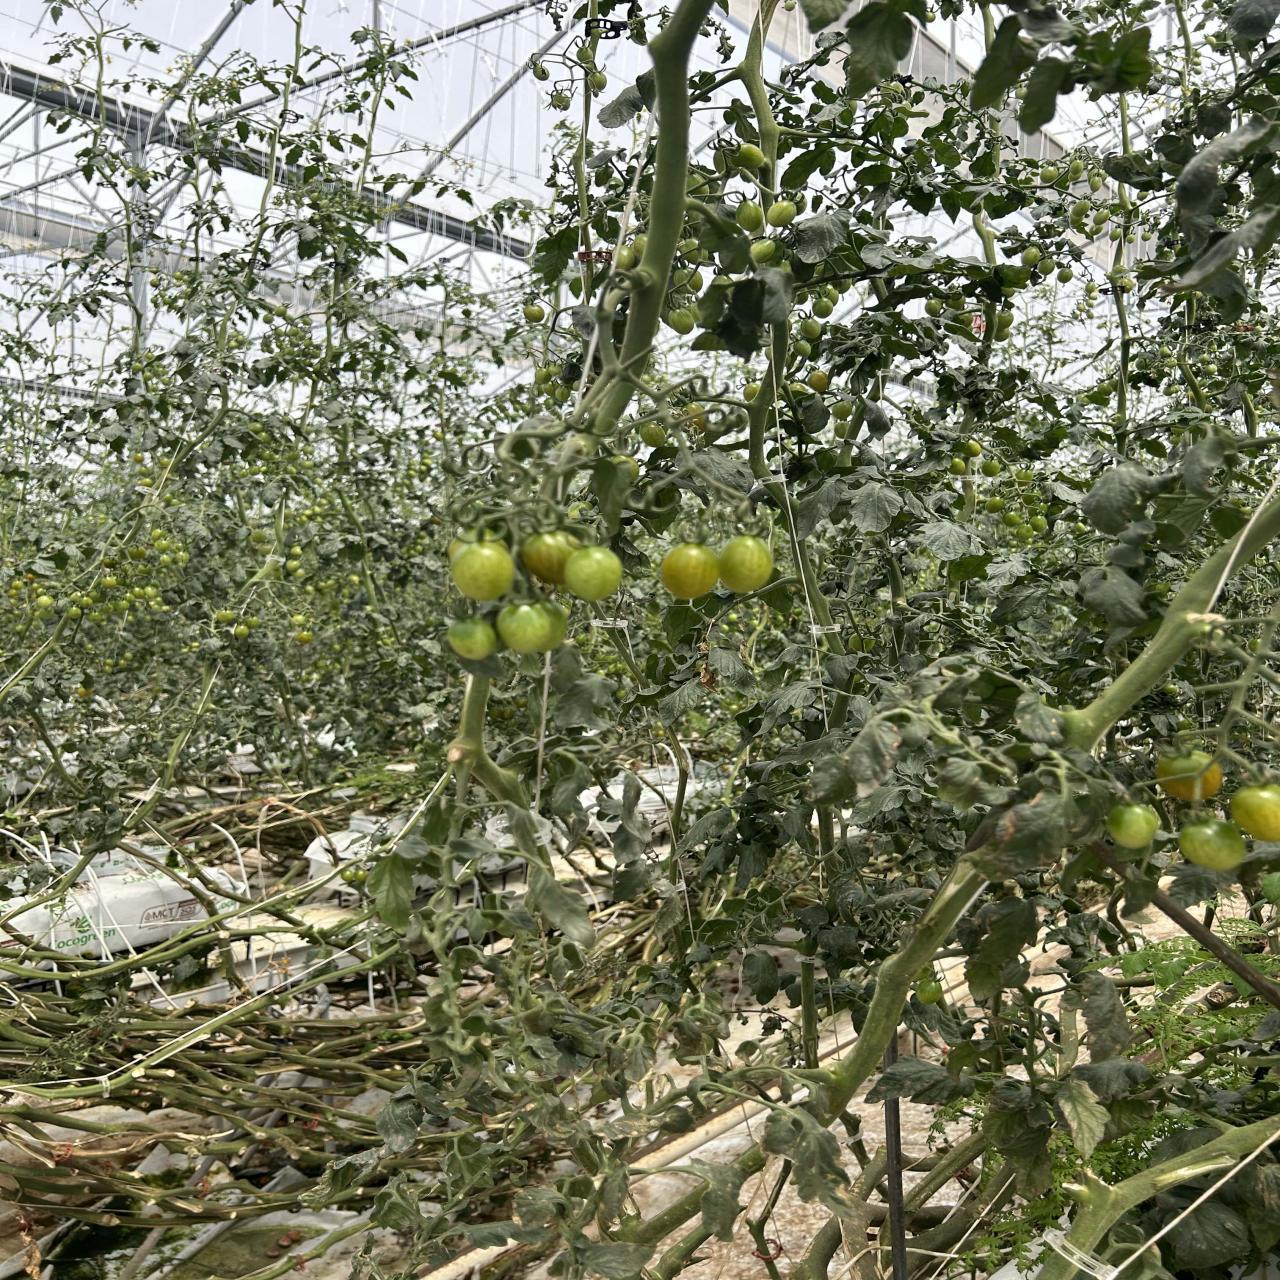Rugose leaf: (866, 1056, 974, 1105), (1080, 974, 1135, 1062)
Rugose tomato: (1179, 818, 1246, 872), (1157, 751, 1221, 801), (1231, 784, 1280, 842), (1107, 804, 1160, 849), (735, 200, 765, 232), (767, 199, 798, 227), (736, 143, 764, 169), (666, 309, 695, 334), (749, 239, 776, 264), (639, 423, 666, 447), (805, 369, 830, 393), (523, 305, 545, 322)
